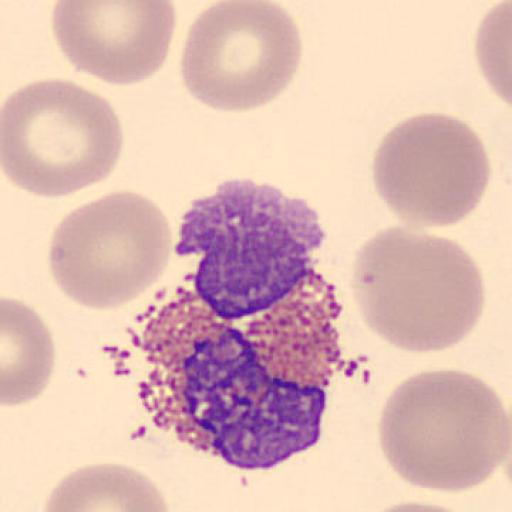RBC: (347, 225, 486, 356), (375, 368, 512, 494), (46, 188, 173, 312), (1, 76, 124, 199), (370, 110, 492, 230), (180, 0, 304, 113), (50, 0, 178, 87), (39, 461, 171, 512), (1, 296, 57, 408), (473, 0, 512, 108), (365, 500, 476, 512)
WBC: (126, 178, 346, 474), (140, 271, 342, 472)
